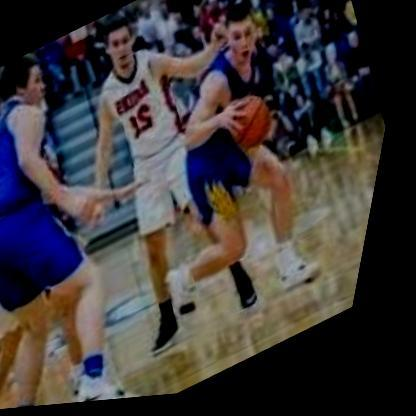basketball: (219, 87, 293, 161)
